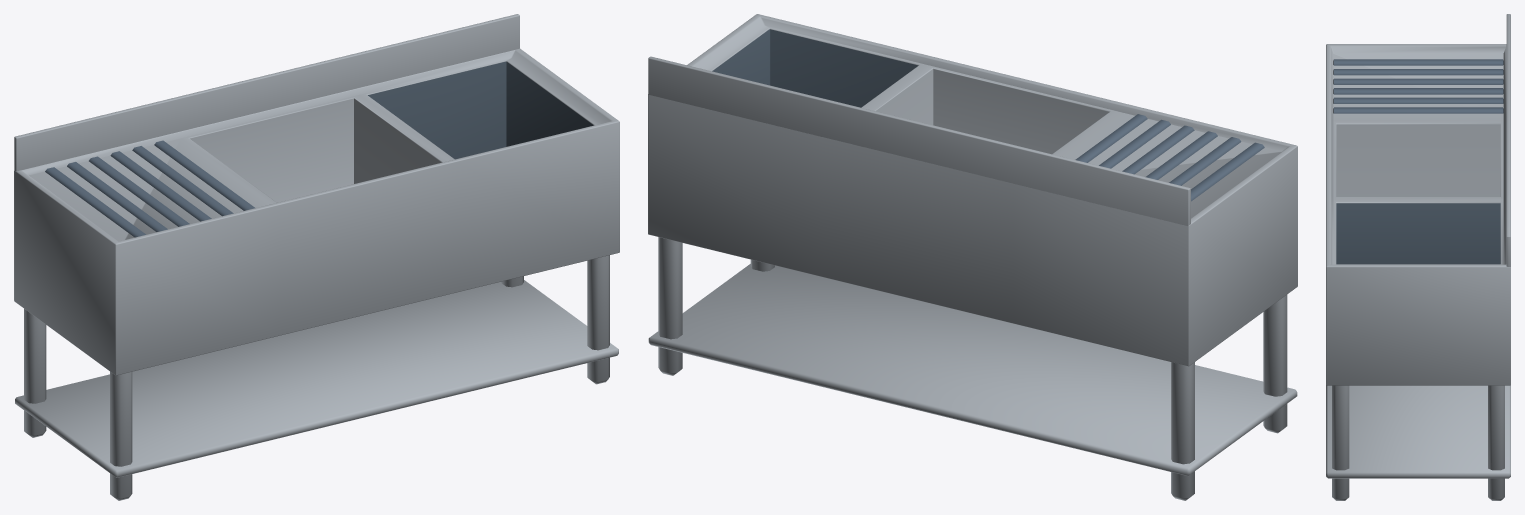
File: Sink-Bench-1.fbx
The picture shows the model from 3 angles, left to right: view 1: azimuth 30°, elevation 25°; view 2: azimuth 150°, elevation 25°; view 3: azimuth 270°, elevation 25°; orthographic projection. The views are drawn at different scales.
Visible parts, largest first — view 1: Sink-Bench-1; view 2: Sink-Bench-1; view 3: Sink-Bench-1.
Boxes of the visible parts, <box> form: Sink-Bench-1: <box>14,14,619,500</box>; Sink-Bench-1: <box>648,14,1297,500</box>; Sink-Bench-1: <box>1326,14,1510,500</box>.
Bounding box in the file's own units: 2 × 1.12 × 0.7.
